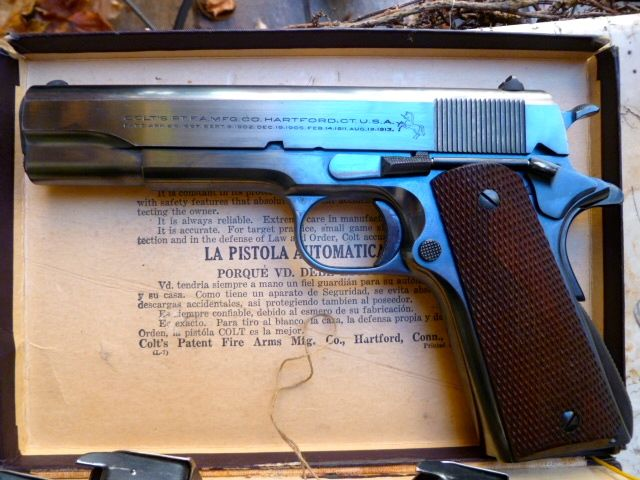Arma Real: (18, 74, 637, 460)
